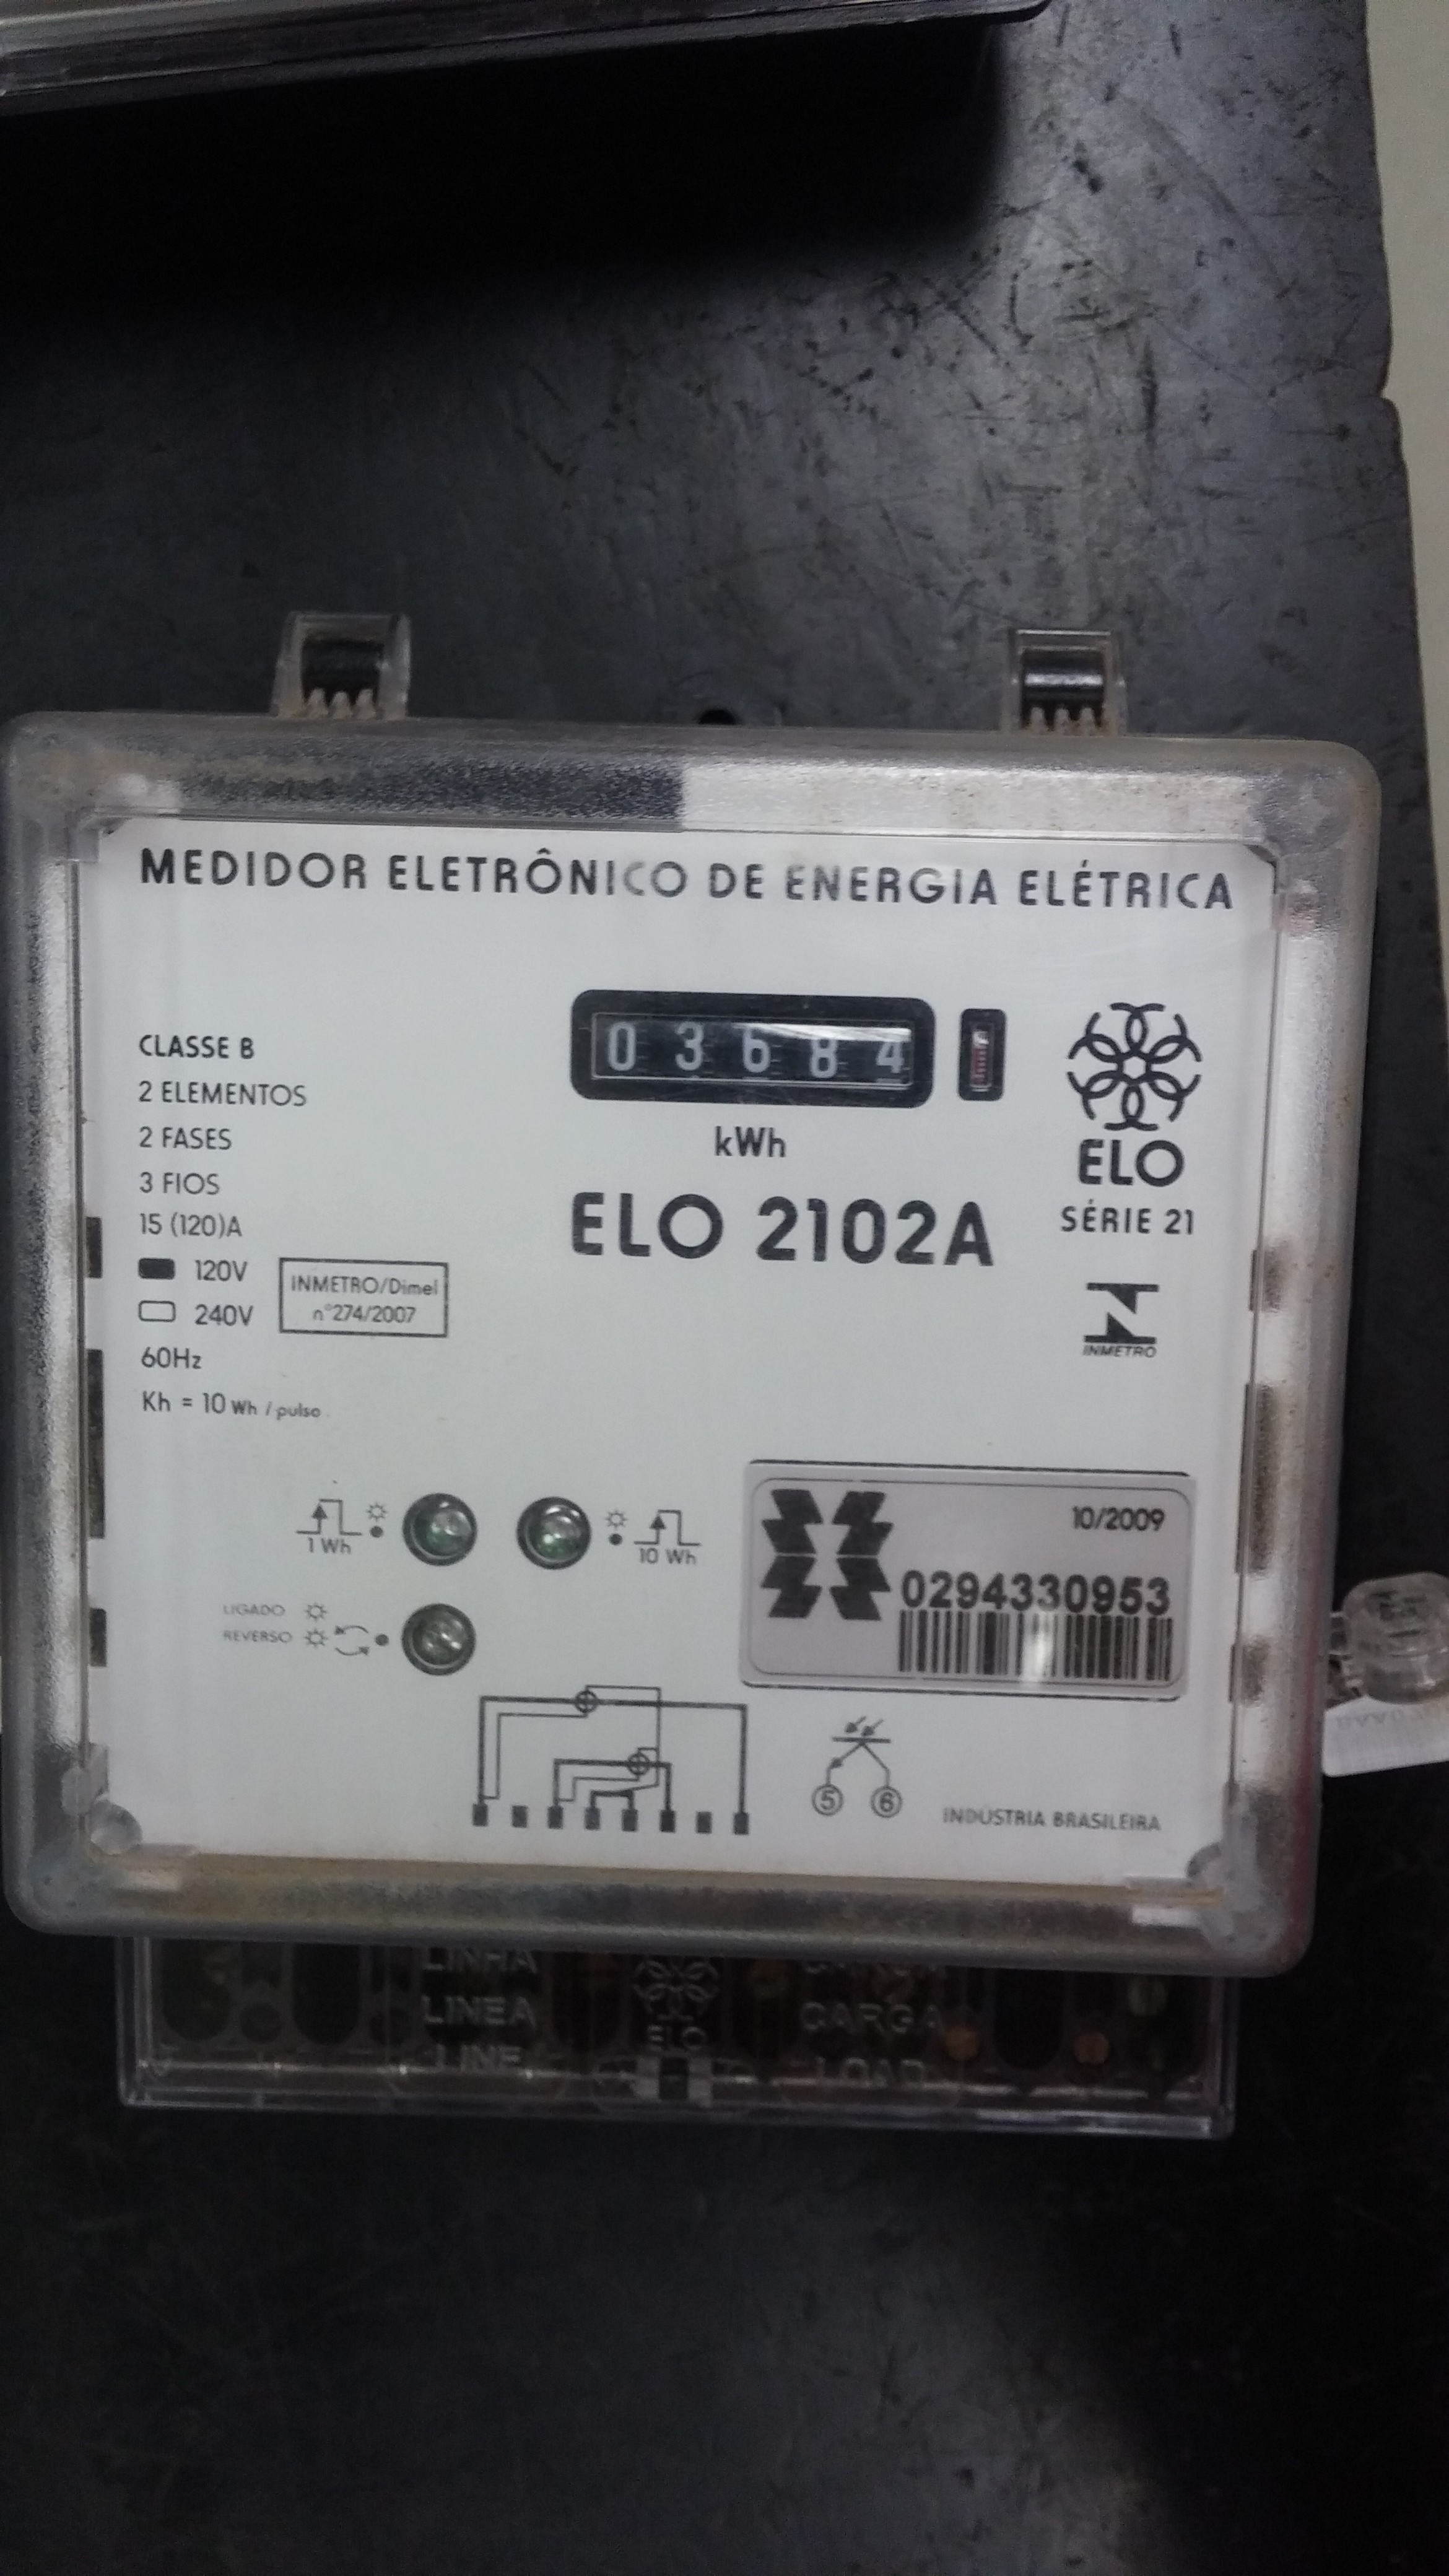counter3: (568, 989, 945, 1115)
